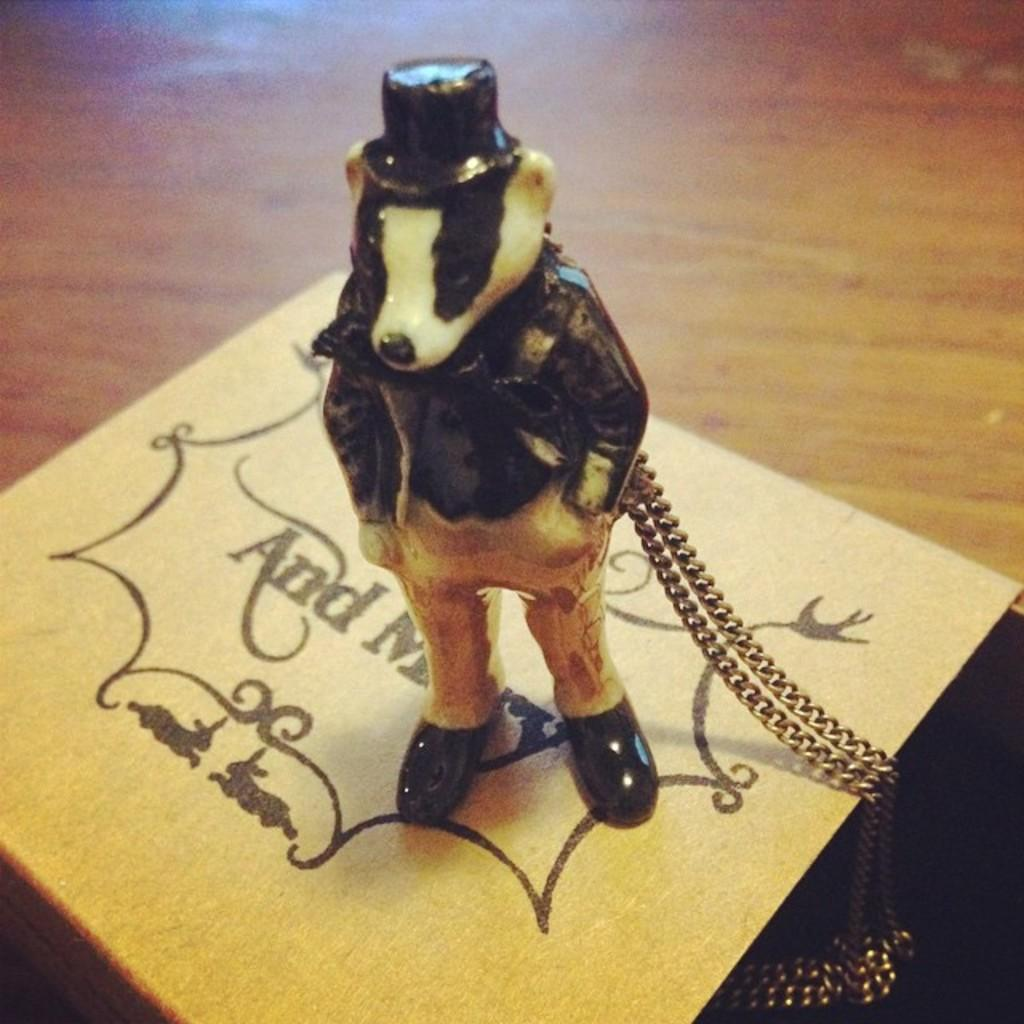Hat: (358, 55, 520, 193)
